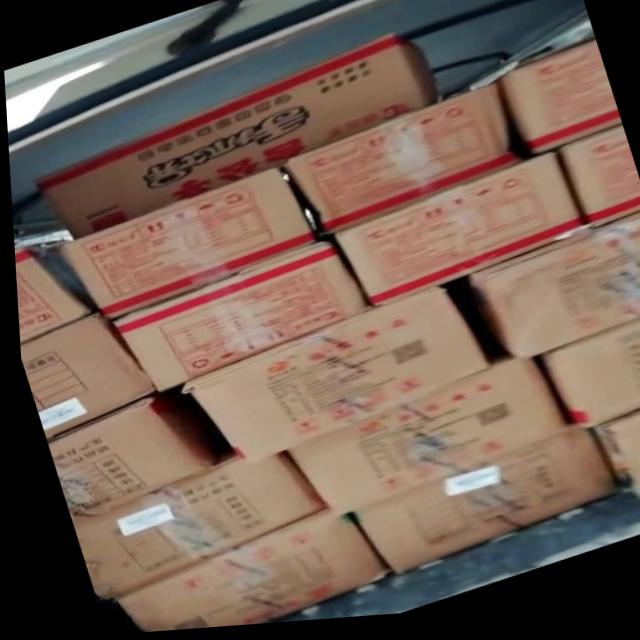box: (31, 37, 436, 238), (174, 294, 484, 465), (280, 363, 559, 522), (341, 431, 612, 581), (330, 160, 589, 311), (54, 171, 314, 321), (107, 248, 369, 395), (275, 88, 521, 240), (67, 453, 321, 600), (103, 512, 379, 634), (463, 219, 640, 364), (42, 399, 211, 526), (16, 312, 151, 440), (494, 48, 620, 161), (534, 326, 640, 440), (555, 132, 640, 235), (12, 246, 91, 346), (589, 418, 640, 512)
